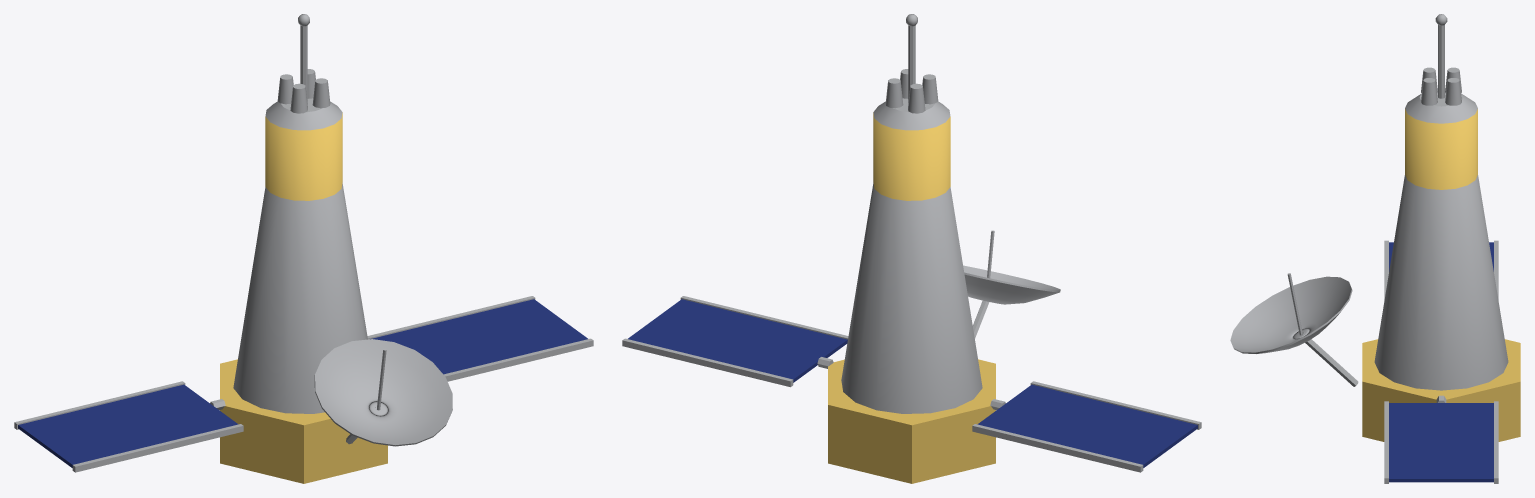
The model's file is Ranger.fbx.
3 views of the same model, side by side, from view 1: azimuth 30°, elevation 25°; view 2: azimuth 150°, elevation 25°; view 3: azimuth 270°, elevation 25° (orthographic). The views are drawn at different scales.
Parts seen in each view (by area): view 1: Ranger; view 2: Ranger; view 3: Ranger.
Part boxes in pixels (x1,y1,x2,y2): Ranger: (14, 14, 593, 483); Ranger: (622, 14, 1201, 483); Ranger: (1230, 14, 1520, 483).
Size of the model in its own units: 4.62 by 3.65 by 2.38.
